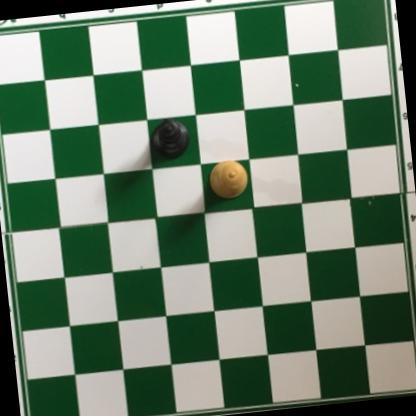black-queen: (148, 115, 193, 164)
white-queen: (206, 157, 249, 200)
